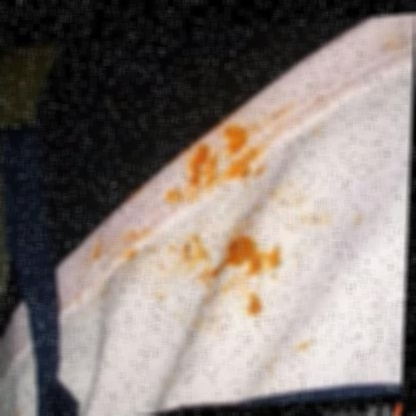kimchi: (207, 221, 279, 279), (184, 283, 230, 336), (294, 204, 366, 229), (161, 235, 201, 278), (157, 181, 203, 209), (224, 122, 256, 158), (189, 149, 216, 189), (224, 155, 257, 185), (240, 289, 270, 318), (272, 189, 306, 205), (123, 230, 144, 246), (92, 239, 104, 264), (291, 344, 312, 357), (122, 252, 136, 264), (157, 291, 170, 300)
